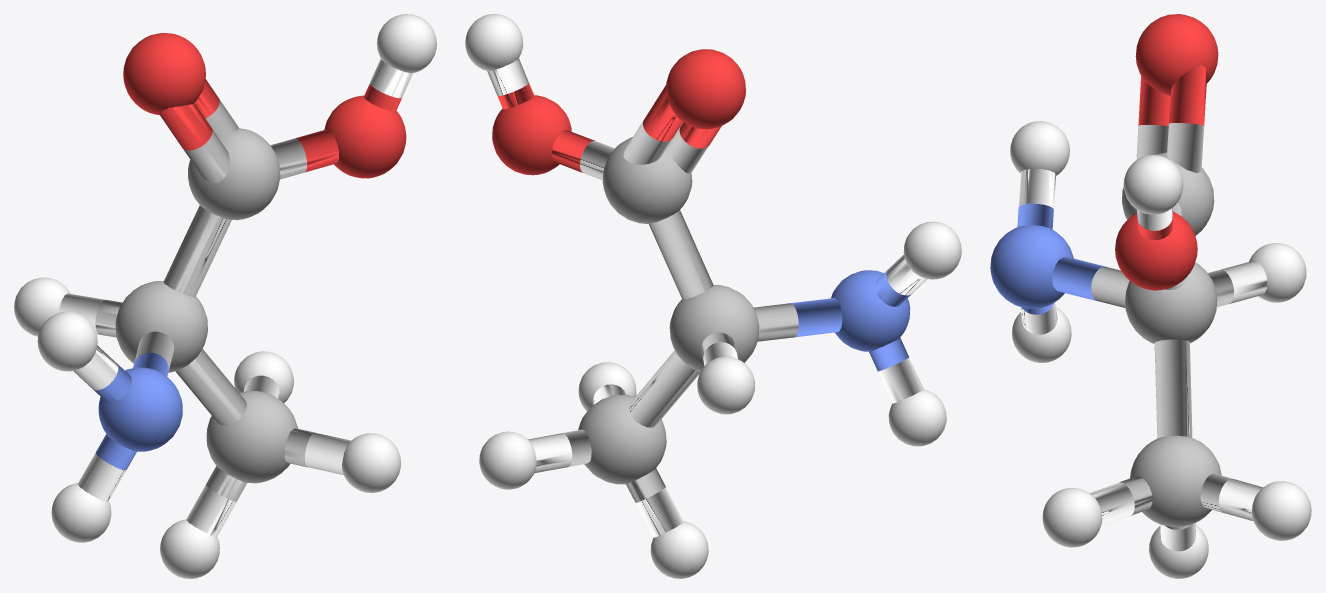
The model's file is DAlanine.fbx.
The picture shows the model from 3 angles, left to right: view 1: azimuth 30°, elevation 25°; view 2: azimuth 150°, elevation 25°; view 3: azimuth 270°, elevation 25°; orthographic projection. The views are drawn at different scales.
Visible parts, largest first — view 1: C5_Atom.001, C4_Atom.001, C6_Atom.001, O2_Atom.001, N3_Atom.001, O1_Atom.001, Cylinder9.001, H12_Atom.001, H10_Atom.001, H13_Atom.001, Cylinder10.001, H8_Atom.001 (+22 smaller); view 2: C5_Atom.001, O2_Atom.001, C6_Atom.001, C4_Atom.001, O1_Atom.001, N3_Atom.001, Cylinder9.001, H12_Atom.001, H7_Atom.001, H9_Atom.001, Cylinder10.001, H13_Atom.001 (+19 smaller); view 3: C5_Atom.001, N3_Atom.001, C4_Atom.001, O2_Atom.001, O1_Atom.001, Cylinder10.001, H9_Atom.001, H10_Atom.001, H13_Atom.001, H12_Atom.001, H7_Atom.001, C6_Atom.001 (+19 smaller).
Boxes of the visible parts, x1=… form: C5_Atom.001: x1=206, y1=391, x2=298, y2=483; C4_Atom.001: x1=115, y1=281, x2=207, y2=372; C6_Atom.001: x1=188, y1=128, x2=280, y2=220; O2_Atom.001: x1=123, y1=33, x2=205, y2=115; N3_Atom.001: x1=98, y1=367, x2=182, y2=451; O1_Atom.001: x1=324, y1=95, x2=406, y2=178; Cylinder9.001: x1=163, y1=205, x2=231, y2=297; H12_Atom.001: x1=37, y1=311, x2=97, y2=371; H10_Atom.001: x1=342, y1=433, x2=400, y2=492; H13_Atom.001: x1=377, y1=14, x2=436, y2=73; Cylinder10.001: x1=175, y1=349, x2=246, y2=425; H8_Atom.001: x1=160, y1=519, x2=219, y2=578; C5_Atom.001: x1=578, y1=394, x2=666, y2=484; O2_Atom.001: x1=666, y1=49, x2=745, y2=129; C6_Atom.001: x1=602, y1=137, x2=692, y2=223; C4_Atom.001: x1=669, y1=285, x2=759, y2=371; O1_Atom.001: x1=492, y1=95, x2=571, y2=175; N3_Atom.001: x1=831, y1=270, x2=910, y2=351; Cylinder9.001: x1=649, y1=210, x2=713, y2=299; H12_Atom.001: x1=903, y1=221, x2=961, y2=279; H7_Atom.001: x1=697, y1=356, x2=755, y2=414; H9_Atom.001: x1=479, y1=431, x2=536, y2=489; Cylinder10.001: x1=628, y1=350, x2=700, y2=427; H13_Atom.001: x1=465, y1=14, x2=523, y2=71; C5_Atom.001: x1=1130, y1=435, x2=1221, y2=527; N3_Atom.001: x1=990, y1=225, x2=1073, y2=308; C4_Atom.001: x1=1125, y1=262, x2=1217, y2=343; O2_Atom.001: x1=1135, y1=14, x2=1218, y2=95; O1_Atom.001: x1=1115, y1=211, x2=1197, y2=290; Cylinder10.001: x1=1154, y1=339, x2=1192, y2=438; H9_Atom.001: x1=1252, y1=481, x2=1311, y2=540; H10_Atom.001: x1=1042, y1=487, x2=1102, y2=547; H13_Atom.001: x1=1123, y1=155, x2=1183, y2=214; H12_Atom.001: x1=1010, y1=121, x2=1069, y2=175; H7_Atom.001: x1=1249, y1=243, x2=1306, y2=302; C6_Atom.001: x1=1122, y1=152, x2=1214, y2=235.
Bounding box in the file's own units: 437 × 509 × 272.
